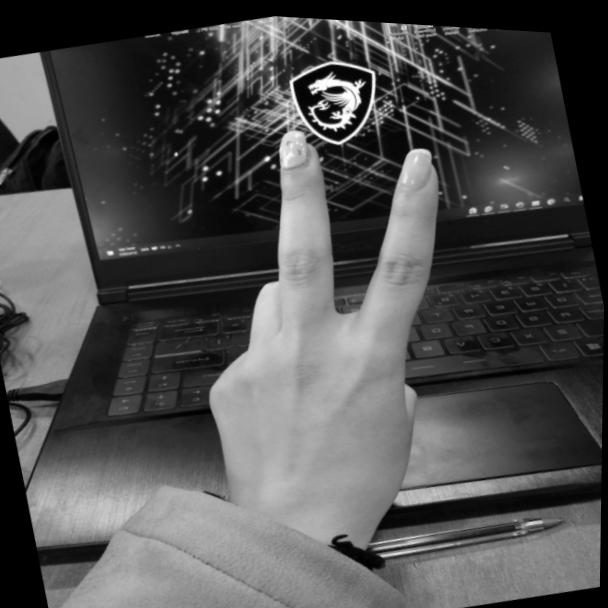two: (141, 83, 517, 536)
